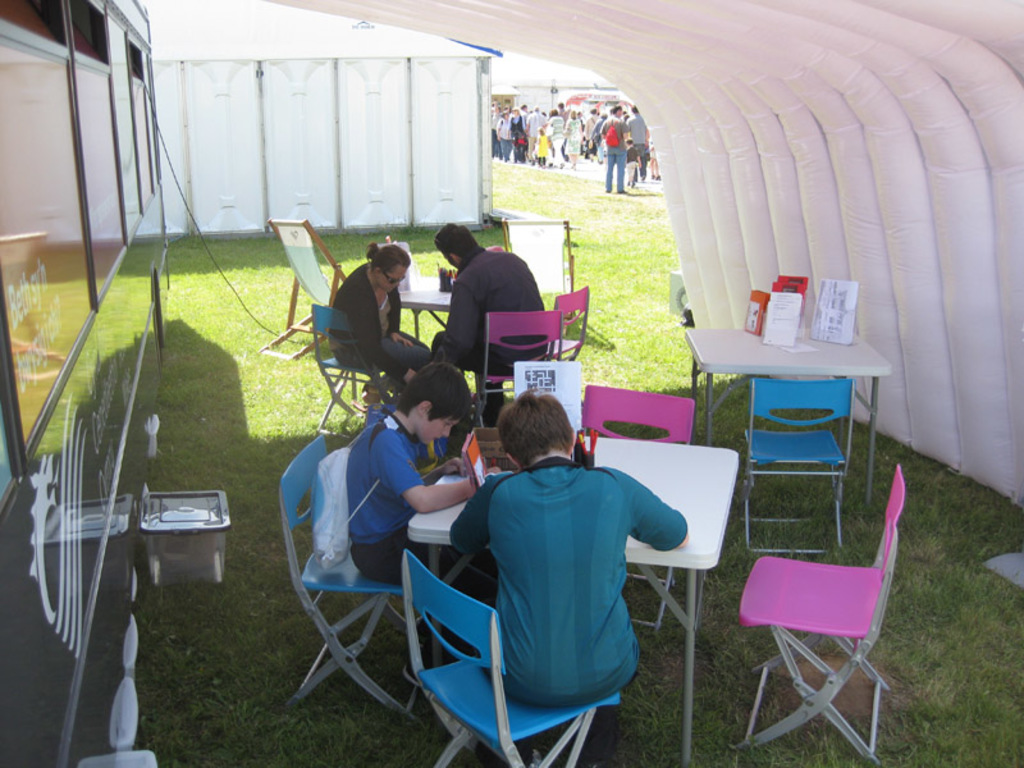Chair: (265, 212, 855, 767), (735, 495, 911, 748)
